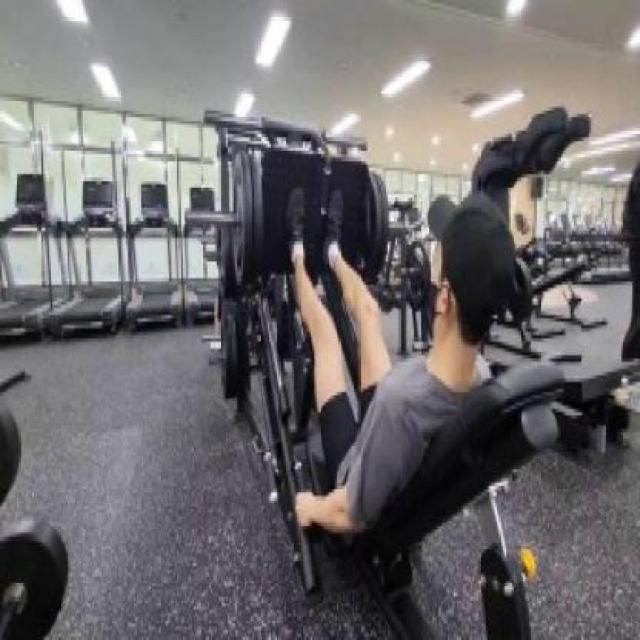leg press: (187, 67, 560, 640)
